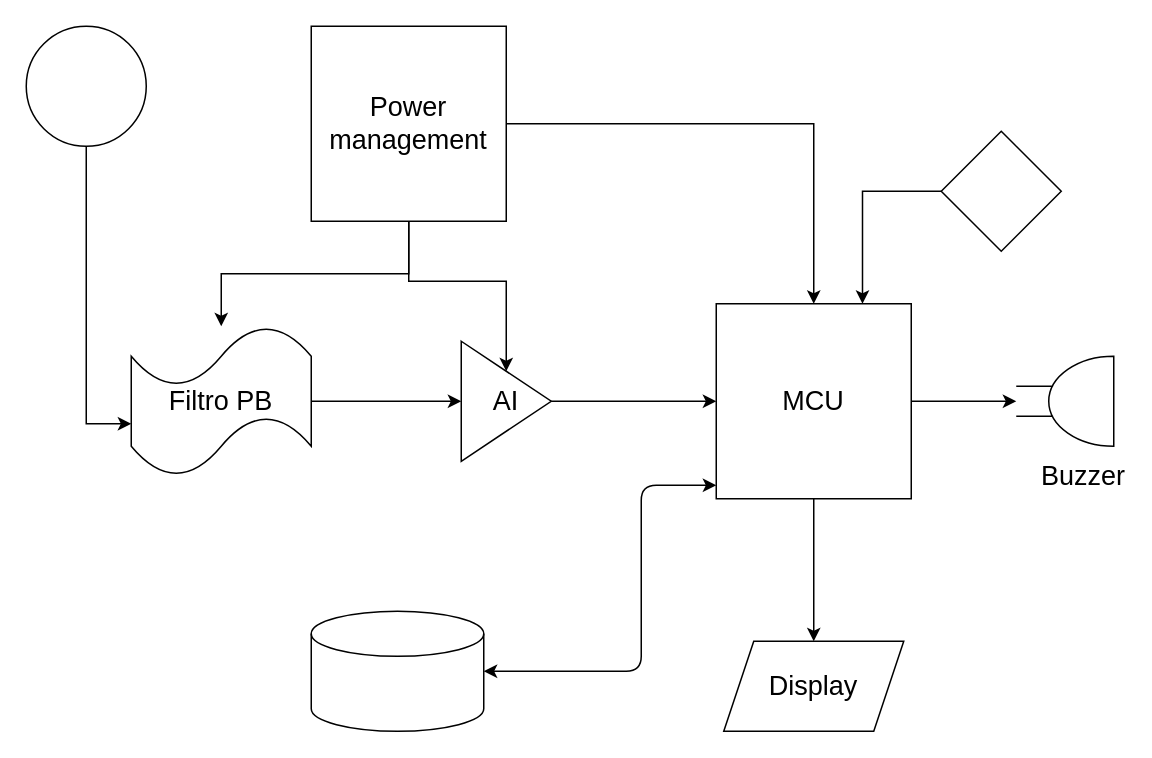
Some shapes in this 1152 by 758 pixel diagram are drawn without their labels. Each missing label, with the box of its shape:
Memória: (310, 610, 484, 731)
Oscilador (Clock): (940, 130, 1061, 251)
Sensor: (25, 25, 146, 146)
